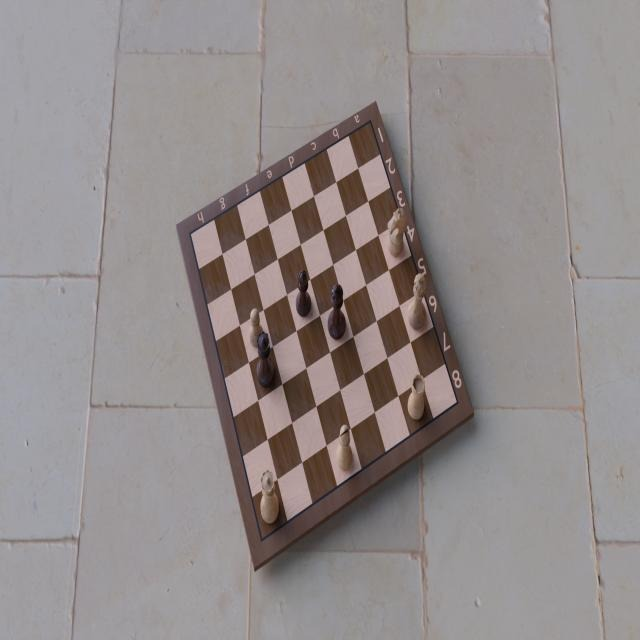black-bishop: (295, 268, 312, 316)
black-king: (326, 282, 346, 342)
black-queen: (256, 331, 276, 391)
white-bishop: (336, 423, 356, 473)
white-king: (406, 269, 429, 335)
white-knight: (388, 207, 408, 260)
white-pawn: (247, 306, 264, 349)
white-queen: (258, 467, 282, 527)
white-rook: (408, 372, 428, 423)
